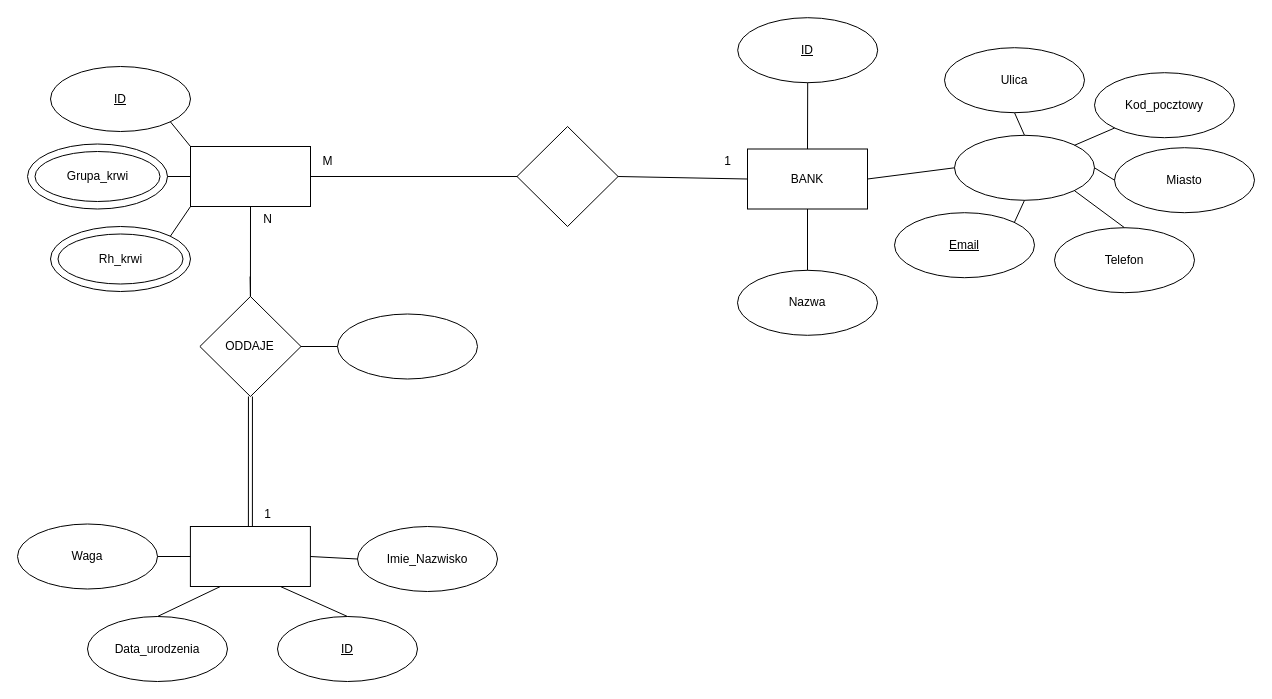
This 1272x699 diagram has some shape labels left out. The shapes that lost their labels are listed below. From the top down, each one's box as (x1, y1, x2, y2) in pixels, then its label:
(190, 146, 310, 206): JEDNOSTKA_KRWI
(516, 126, 618, 226): NALEŻY
(954, 134, 1094, 200): Teleadres
(336, 313, 478, 379): Data_oddania
(189, 526, 310, 586): DAWCA
